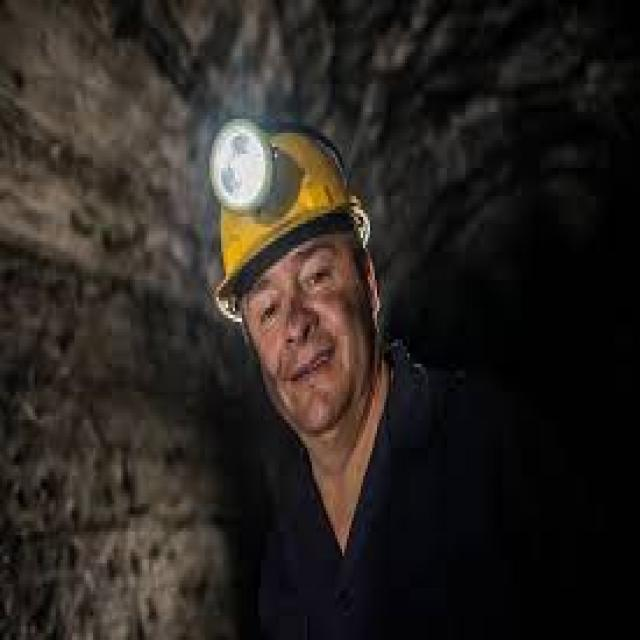No_Goggles: (240, 242, 342, 332)
